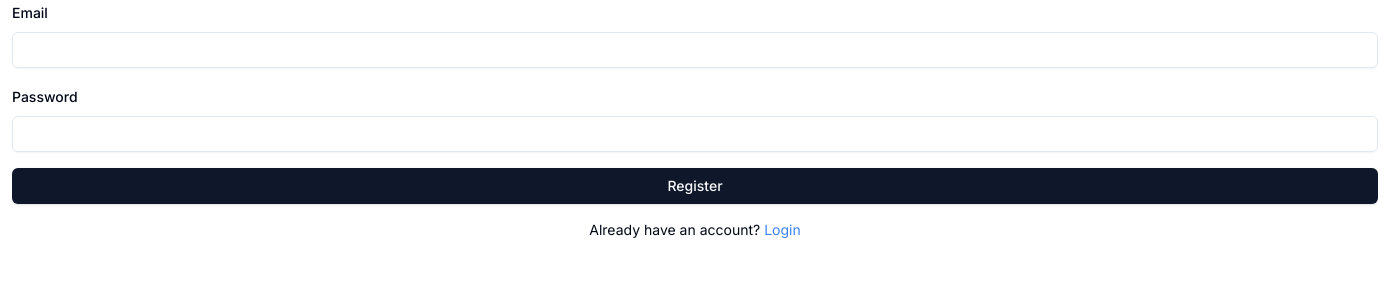
Test: RegisterForm › displays error message on registration failure
# Simulate form submission with existing user
Type "existing@example.com" into the field labelled "Email" at (695, 50), box top-left (12, 32), bottom-right (1378, 68)
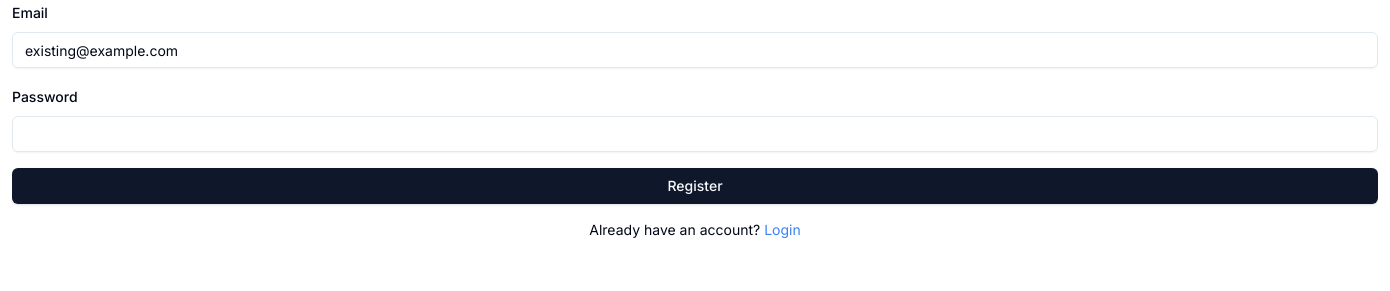
Type "password123" into the password field labelled "Password" at (695, 134), box top-left (12, 116), bottom-right (1378, 152)
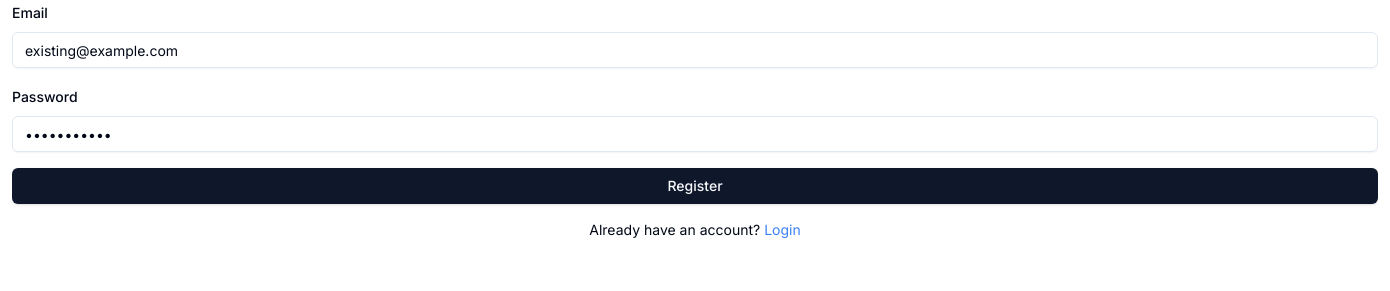
Click the button "Register" at (695, 186), box top-left (12, 168), bottom-right (1378, 204)
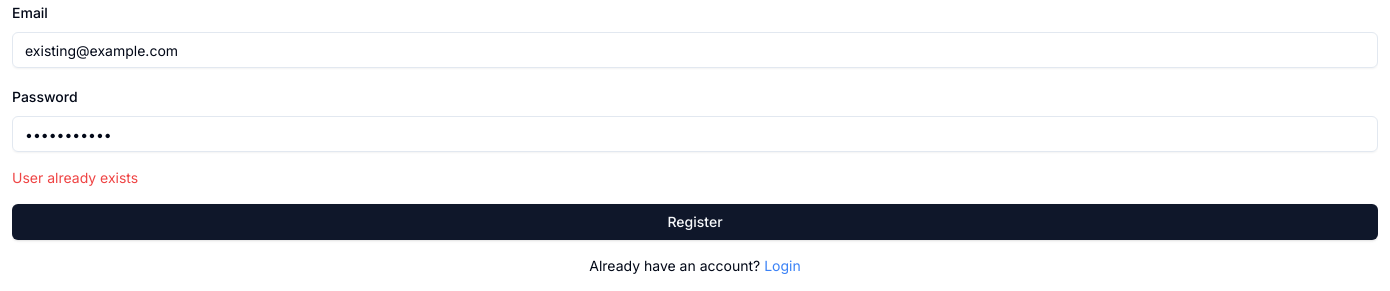
Check: the text "User already exists" is shown, box top-left (12, 169), bottom-right (138, 186)
